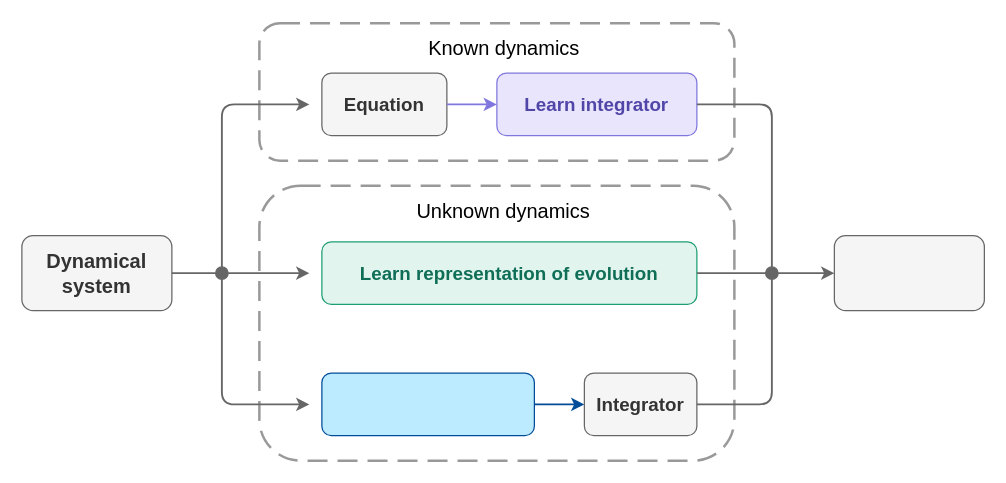
The diagram is 1006 pixels wide and 483 high, and some of its shapes have lost their labels. The centre of each missing label's shape, as x and y in pixels:
"Learn equation" belongs at (427,404).
"Predicted trajectory" belongs at (908,272).
